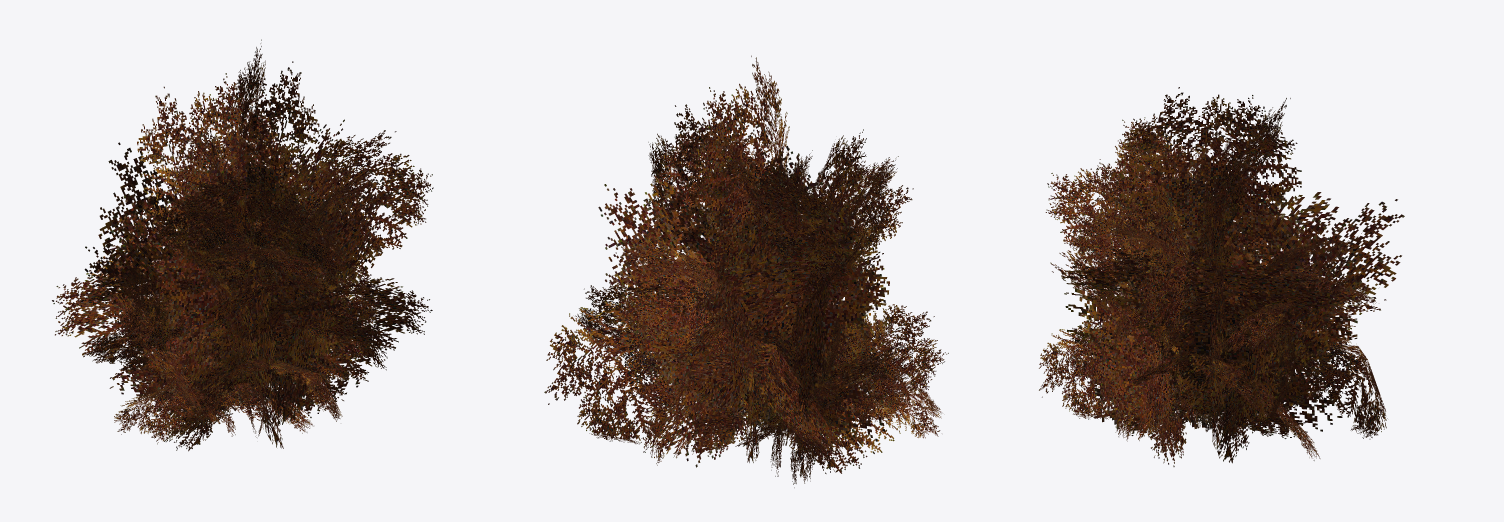
Rendered from bush_02.glb.
3 renders of one model, left to right at view 1: azimuth 30°, elevation 25°; view 2: azimuth 150°, elevation 25°; view 3: azimuth 270°, elevation 25°, orthographic. The views are drawn at different scales.
Visible parts, largest first — view 1: bush_02; view 2: bush_02; view 3: bush_02.
Part boxes in pixels (<box>): bush_02: <box>52,39,433,451</box>; bush_02: <box>544,55,948,487</box>; bush_02: <box>1039,87,1404,466</box>.
Size of the model in its own units: 1.14 by 1.31 by 1.32.
1 material, 1 textured.
